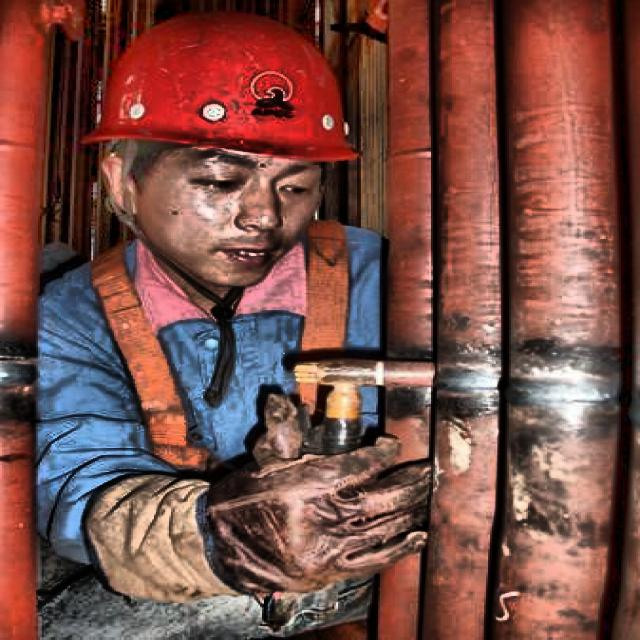helmet: (66, 4, 366, 298)
